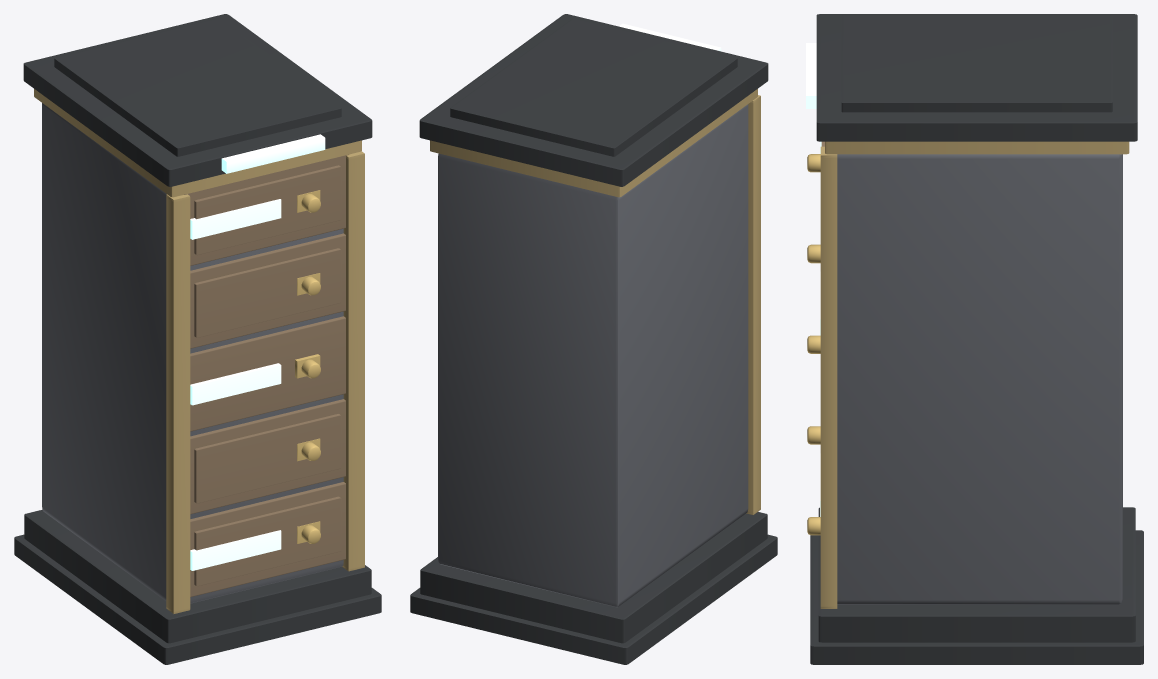
File: hp_room_museum_archive_cabinet_drawers_brass.glb
3 views of the same model, side by side, from view 1: azimuth 30°, elevation 25°; view 2: azimuth 150°, elevation 25°; view 3: azimuth 270°, elevation 25° (orthographic). The views are drawn at different scales.
Visible parts, largest first — view 1: room_museum_archive_cabinet_drawers_brass; view 2: room_museum_archive_cabinet_drawers_brass; view 3: room_museum_archive_cabinet_drawers_brass.
Boxes of the visible parts, x1,y1,x2,y2 form: room_museum_archive_cabinet_drawers_brass: [14, 14, 381, 664]; room_museum_archive_cabinet_drawers_brass: [410, 14, 777, 664]; room_museum_archive_cabinet_drawers_brass: [806, 14, 1143, 664].
Size of the model in its own units: 0.66 by 1.45 by 0.81.
